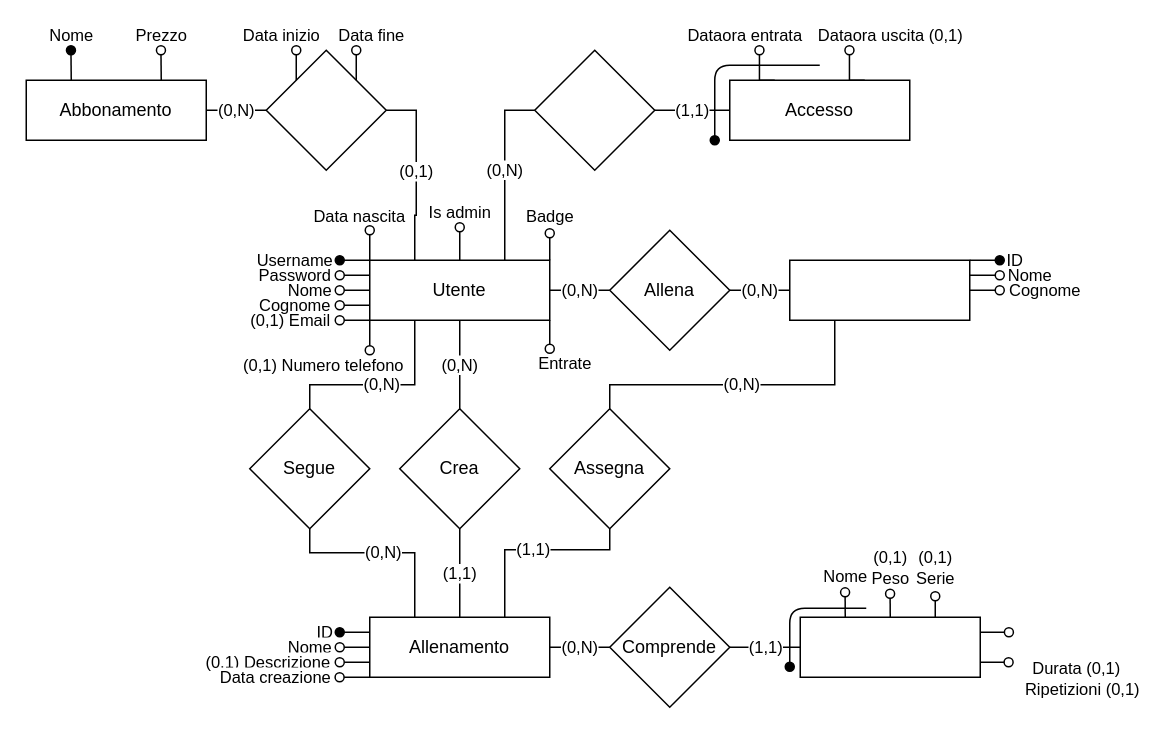
Image size: 1166x735. Some labels were removed from this diagram. Each missing label, with the centre of its shape:
Effettua: pixel 594 109
Esercizio: pixel 889 646
Personal trainer: pixel 879 289
Possiede: pixel 325 109
